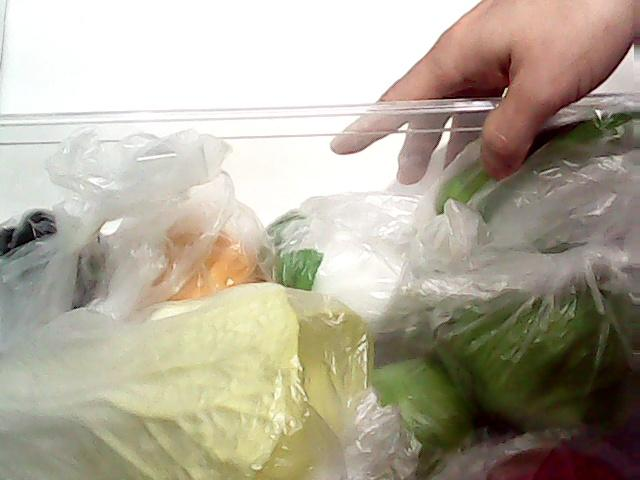apple: (367, 359, 481, 453), (484, 436, 640, 480)
cabbage: (460, 244, 640, 444)
grape: (0, 192, 98, 288)
lemon: (119, 194, 261, 304)
napa cabbage: (0, 284, 362, 480)
pepper: (412, 83, 640, 242)
radish: (270, 192, 426, 341)
